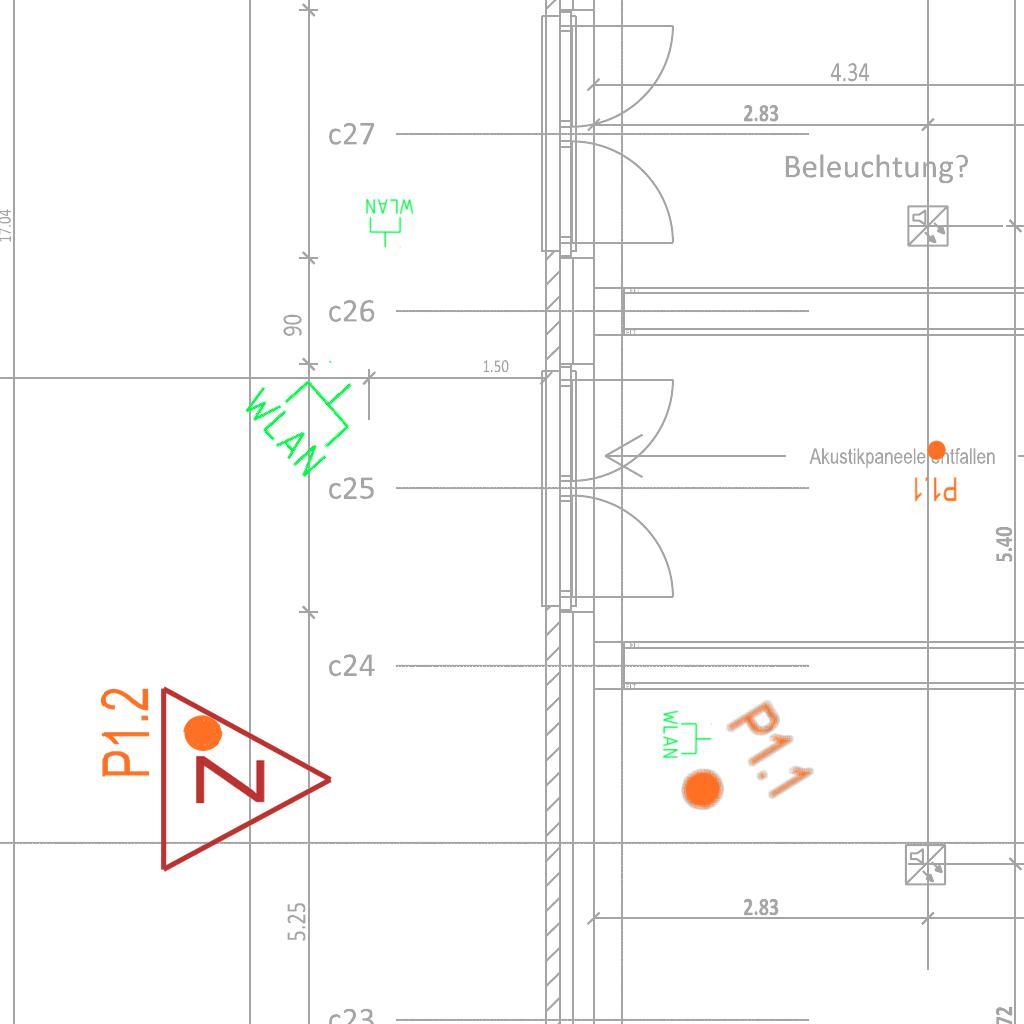Downlight_LED_Einbauleuchten_Flur: (660, 696, 819, 844), (96, 684, 227, 780), (912, 439, 958, 503)
WLAN: (234, 335, 382, 484), (364, 197, 416, 249), (661, 708, 713, 760)
Zimmersignalleuchte: (146, 679, 346, 875)
